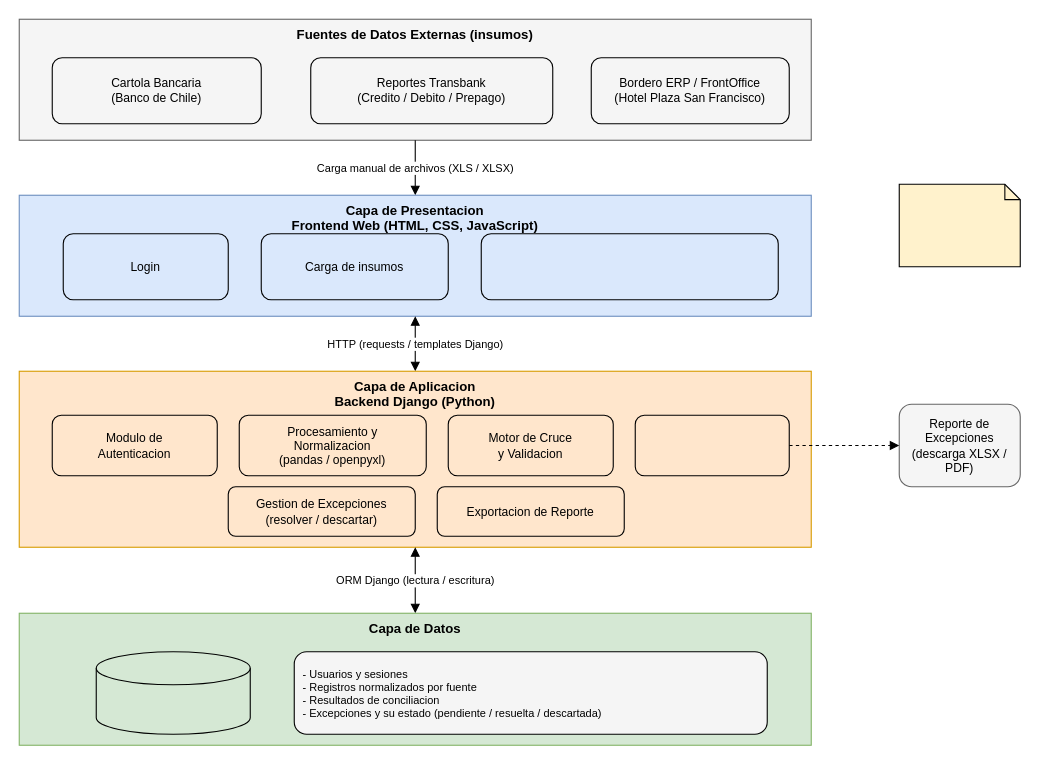
This 1040x765 diagram has some shape labels left out. The centre of each missing label's shape, as x and y in pixels:
"Base de Datos SQLite" goes at point 172,692.
"Generacion de Reporte de Excepciones" goes at point 711,445.
"Hosting/despliegue: por definir" goes at point 959,225.
"Visualizacion de reporte de excepciones" goes at point 629,266.
